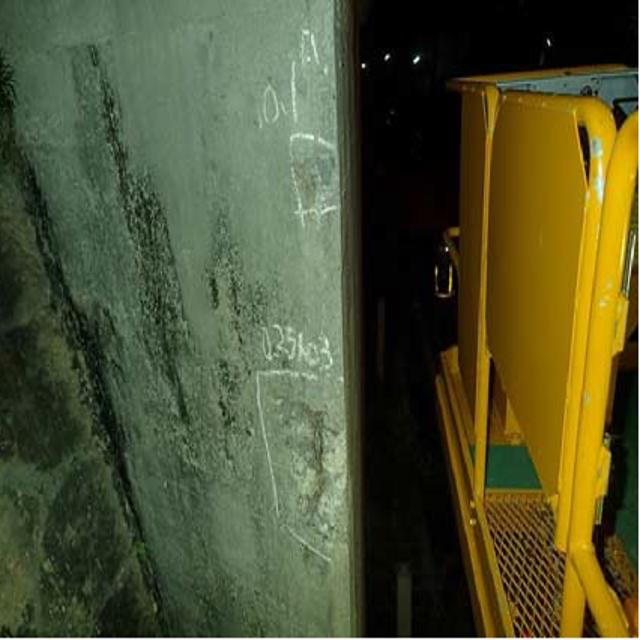spalling: (263, 383, 368, 536)
